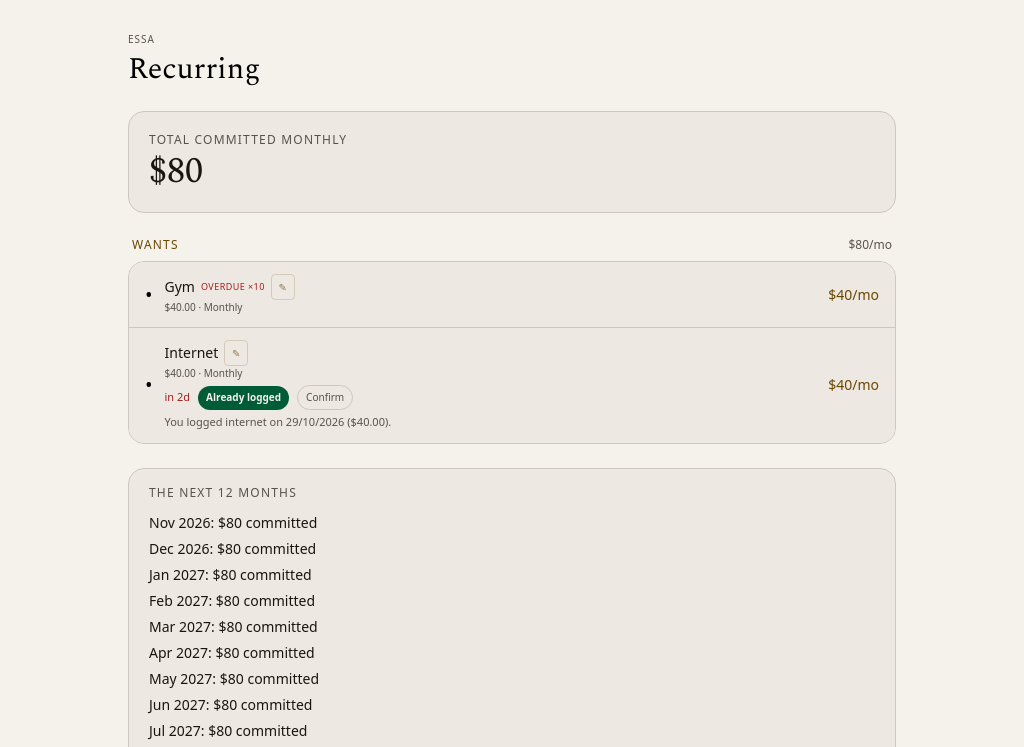
Test: Recurring: Already logged on a due line whose cycle was logged by hand › Already logged links the entry to the cycle, then says so under the row with Undo; Undo takes the link off
Click the button "Already logged" at (244, 398), box [198,386,289,410]
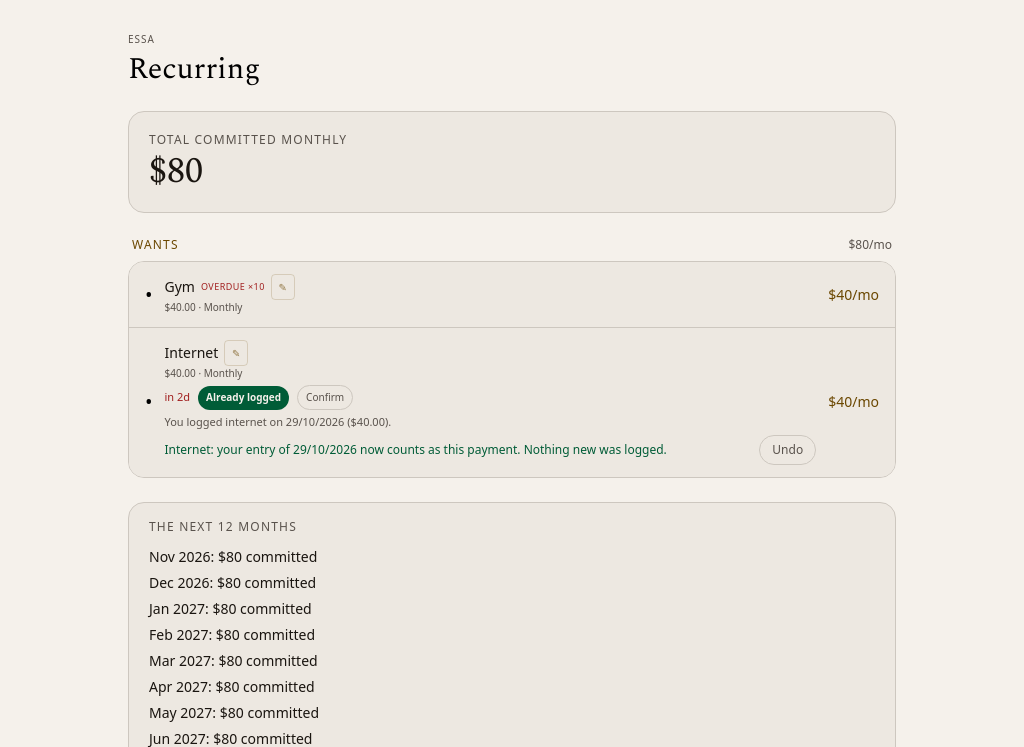
Check: the message shows "Internet: your entry of 29/10/2026 now counts as this payment. Nothing new was logged.", box [164,440,667,458]
Click the button "Undo" at (788, 450), box [759,434,816,464]
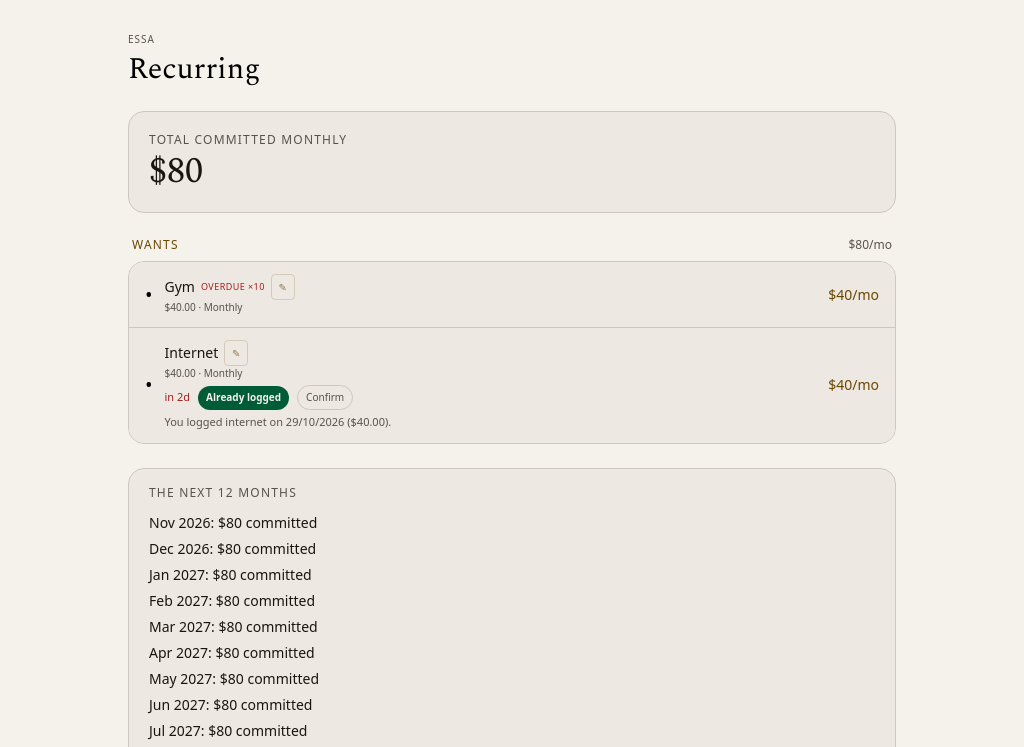
Check: the button "Undo" is gone
